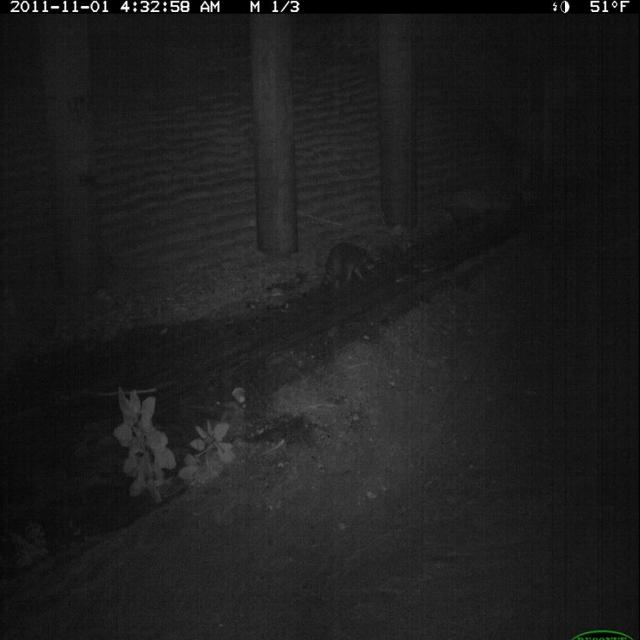raccoon: (316, 239, 380, 303)
